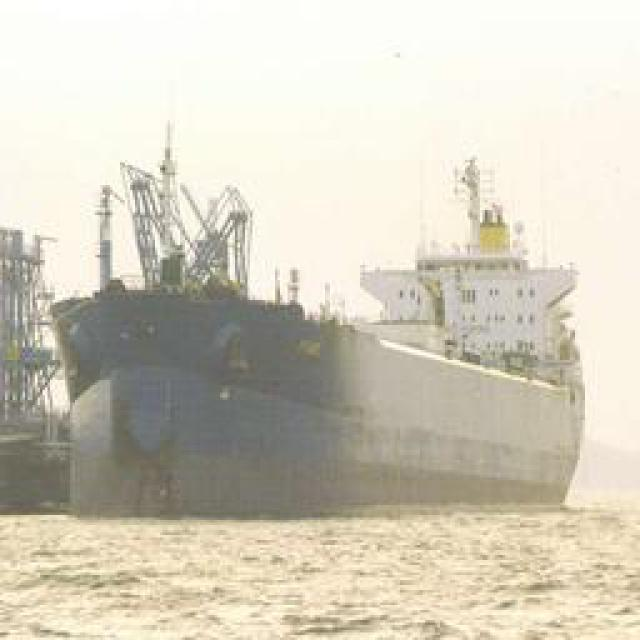Ship: (36, 91, 599, 529)
